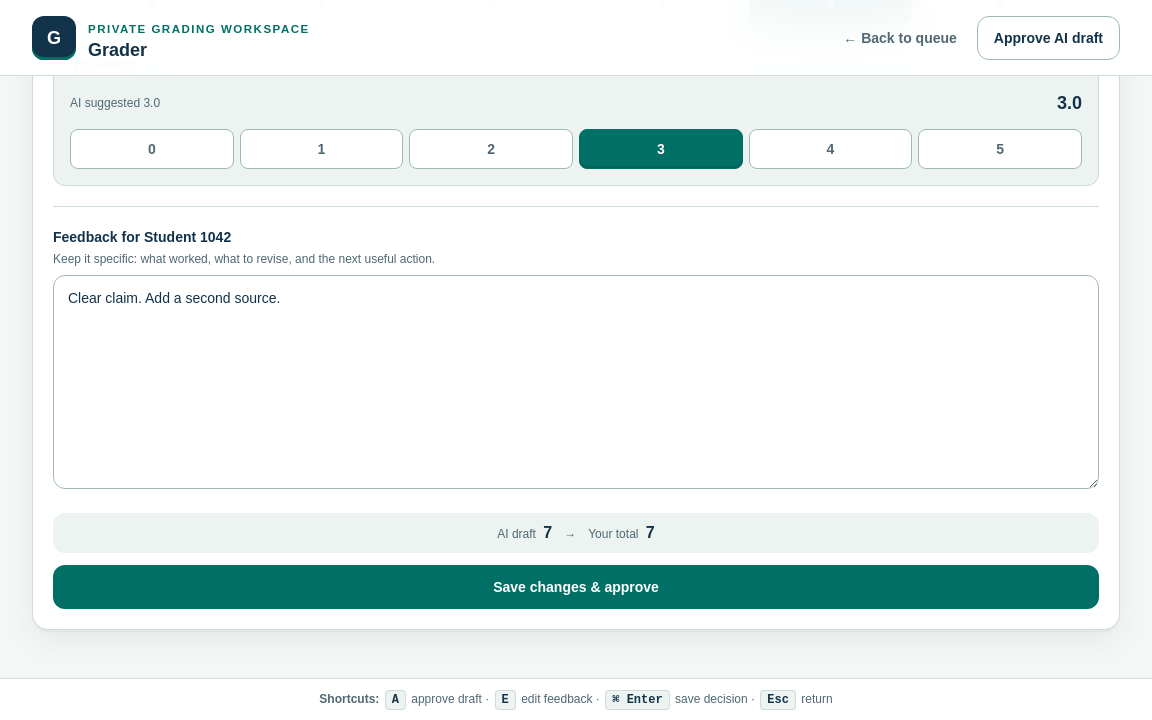
it: SplitView › saves feedback-only edits without leaving a stale unsaved warning
This screenshot has width=1152, height=720.
(page scrolled)
Replace the text in the text box labelled "Feedback for Student 1042" with "Keep the claim. Add one concrete citation connection.". click: (576, 382)
box: [53, 275, 1099, 489]
(page scrolled)
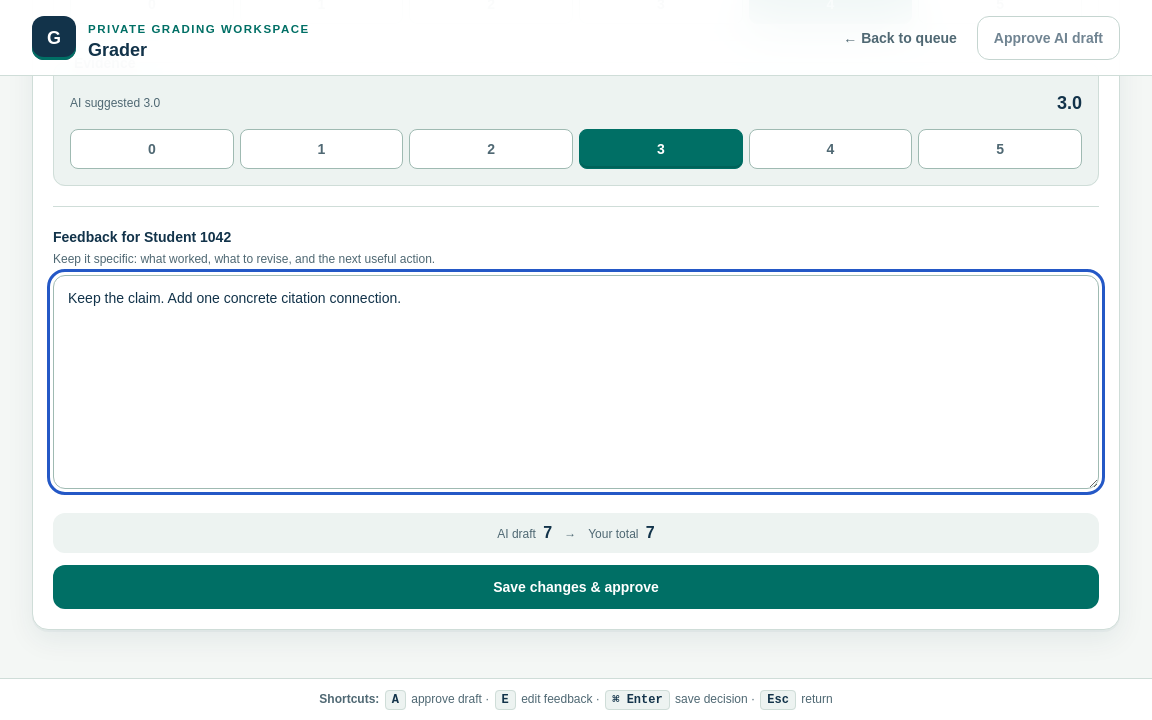
Click the button with aria-label "Save changes and approve". click: (576, 587)
box: [53, 565, 1099, 609]
(page scrolled)
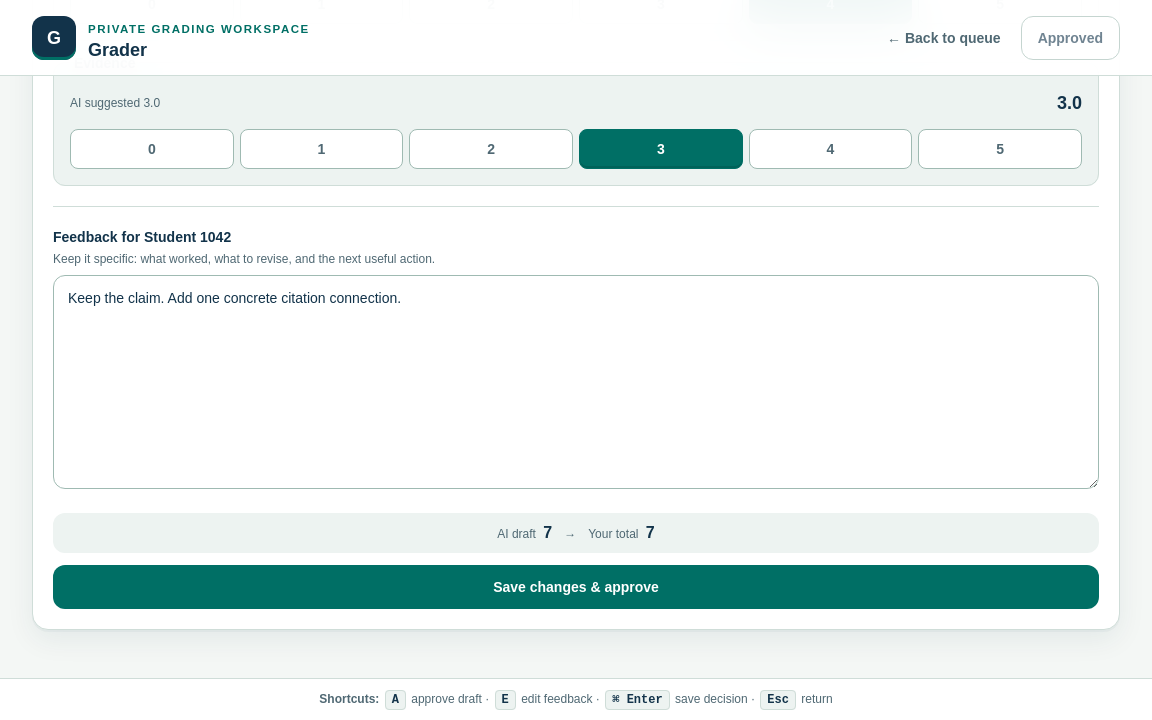
Result: the button with aria-label "Approve AI draft" reads "Approved" at [1021, 16, 1120, 60]
